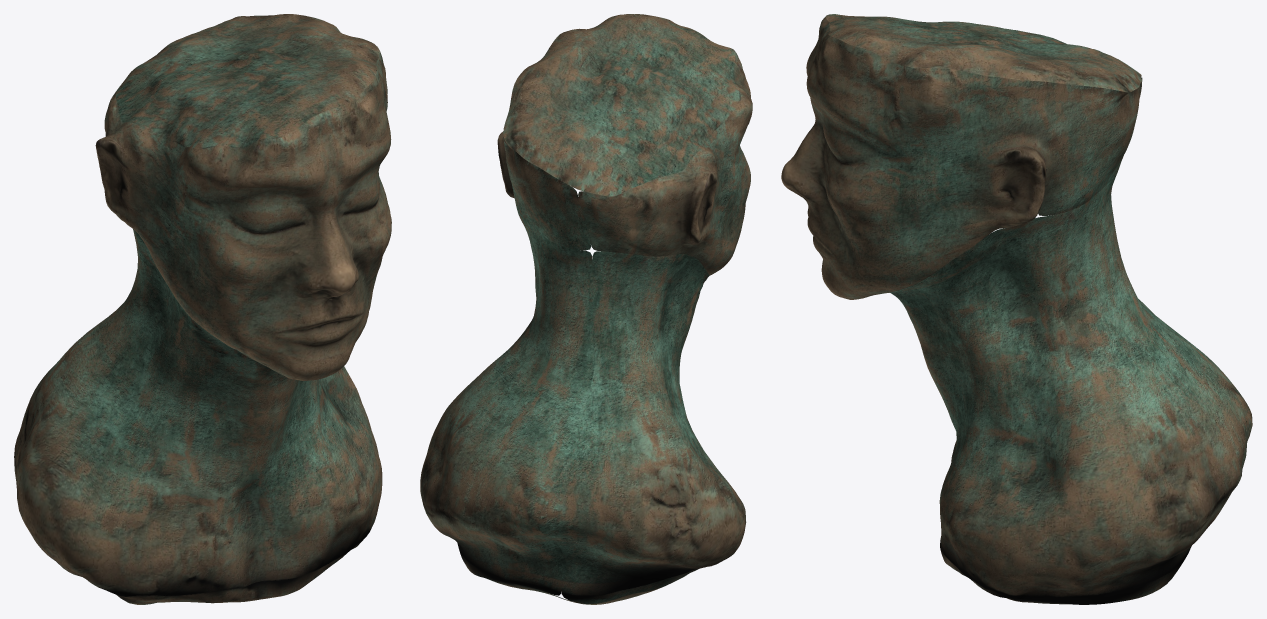
Rendered from bust_statue.glb.
3 renders of one model, left to right at view 1: azimuth 30°, elevation 25°; view 2: azimuth 150°, elevation 25°; view 3: azimuth 270°, elevation 25°, orthographic. The views are drawn at different scales.
Visible parts, largest first — view 1: LOD1_0; view 2: LOD1_0; view 3: LOD1_0.
Part boxes in pixels (<box>): LOD1_0: <box>14,14,391,604</box>; LOD1_0: <box>420,14,752,604</box>; LOD1_0: <box>781,14,1252,604</box>.
Bounding box in the file's own units: 10.03 × 16.1 × 12.34.
Materials: 1 (1 with a texture image).
